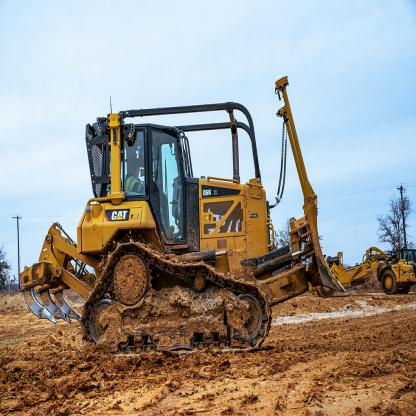bull_dozer/loader/grader: (15, 73, 384, 362)
